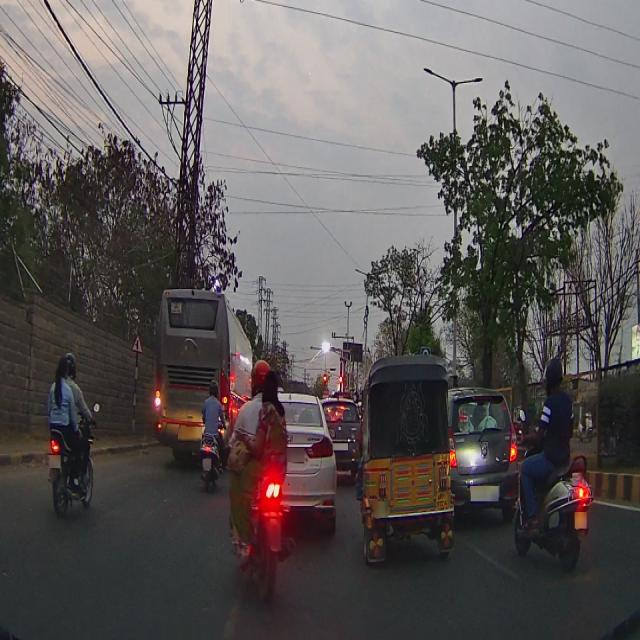auto ahead at: (368, 360, 451, 552)
bus ahead at: (158, 288, 218, 452)
motorcycle ahead at: (231, 468, 287, 602), (540, 440, 591, 575), (50, 415, 97, 519), (202, 381, 226, 493)
